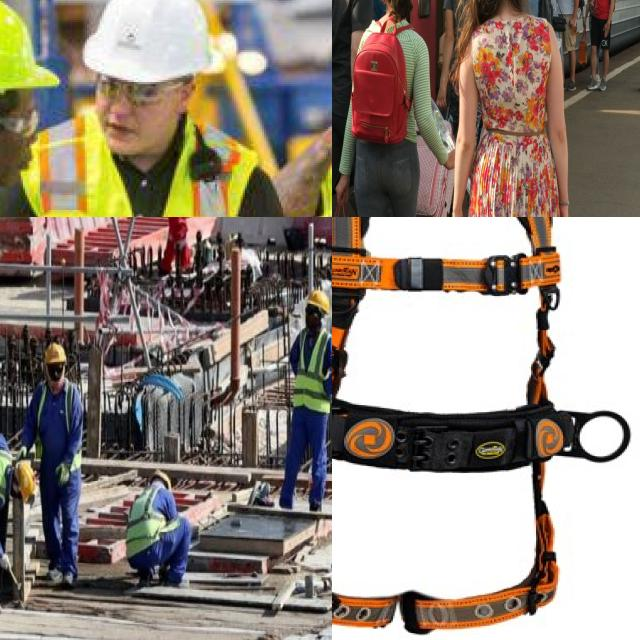Harness: (332, 217, 640, 640)
face_nomask: (95, 69, 178, 155), (0, 99, 42, 195)
glasses: (89, 72, 168, 109)
hand_glove: (52, 458, 75, 487)
head_helmet: (74, 0, 234, 77), (0, 1, 61, 97), (13, 464, 36, 501), (44, 344, 71, 364), (307, 288, 329, 310), (146, 470, 169, 484)
person: (35, 0, 281, 217), (29, 342, 88, 579), (291, 292, 330, 509), (126, 468, 200, 582), (0, 434, 33, 605), (163, 217, 195, 270)
vest: (29, 118, 257, 217), (294, 334, 330, 403), (132, 489, 165, 552)
